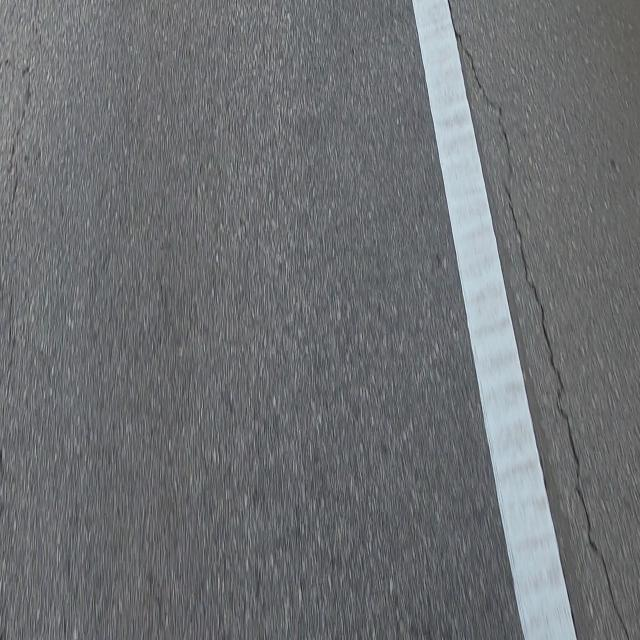Retak-Memanjang: (443, 0, 629, 640)
